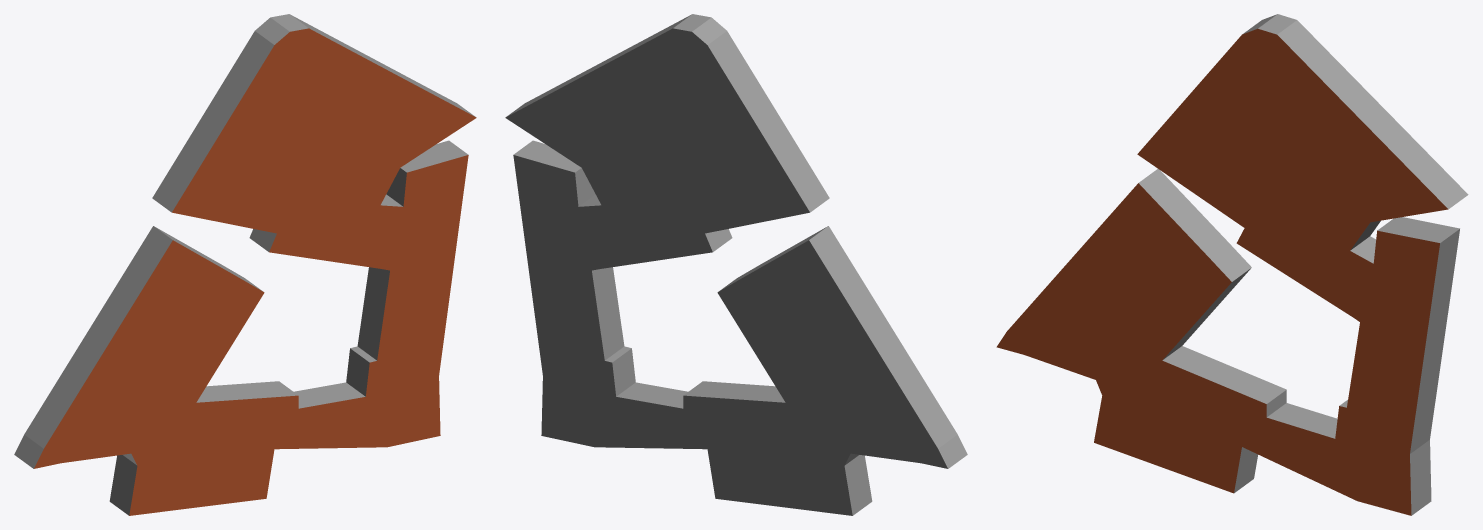
Rendered from construction_1130_assumed_A_Casa_h6m.obj.
The picture shows the model from 3 angles, left to right: view 1: azimuth 30°, elevation 25°; view 2: azimuth 150°, elevation 25°; view 3: azimuth 330°, elevation 25°; orthographic projection. The views are drawn at different scales.
Visible parts, largest first — view 1: construction_1130_assumed_A_Casa; view 2: construction_1130_assumed_A_Casa; view 3: construction_1130_assumed_A_Casa.
Part boxes in pixels (bbox=[...]): construction_1130_assumed_A_Casa: bbox=[14, 14, 476, 515]; construction_1130_assumed_A_Casa: bbox=[505, 14, 967, 515]; construction_1130_assumed_A_Casa: bbox=[996, 14, 1468, 515].
Size of the model in its own units: 78.12 by 77.71 by 6.
